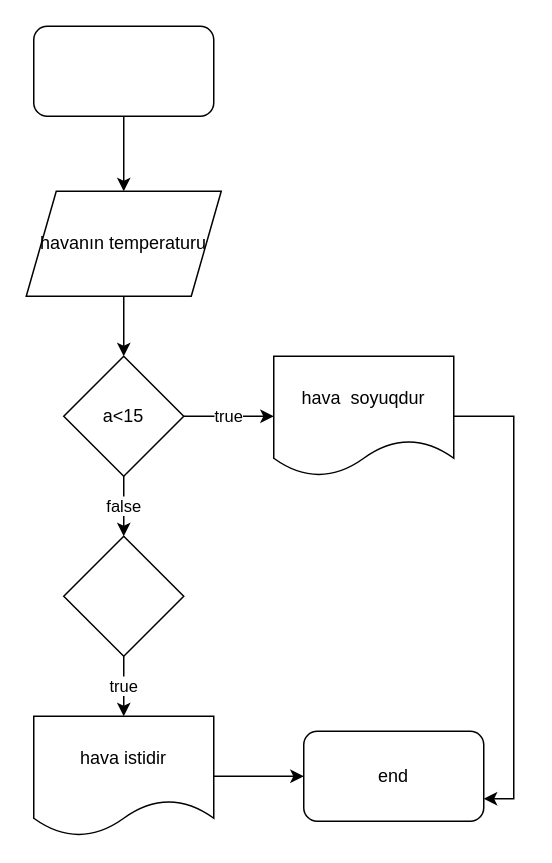
This 552x863 diagram has some shape labels left out. Each missing label, with the centre of its shape:
"a>15" belongs at [123,595].
"start" belongs at [123,70].
